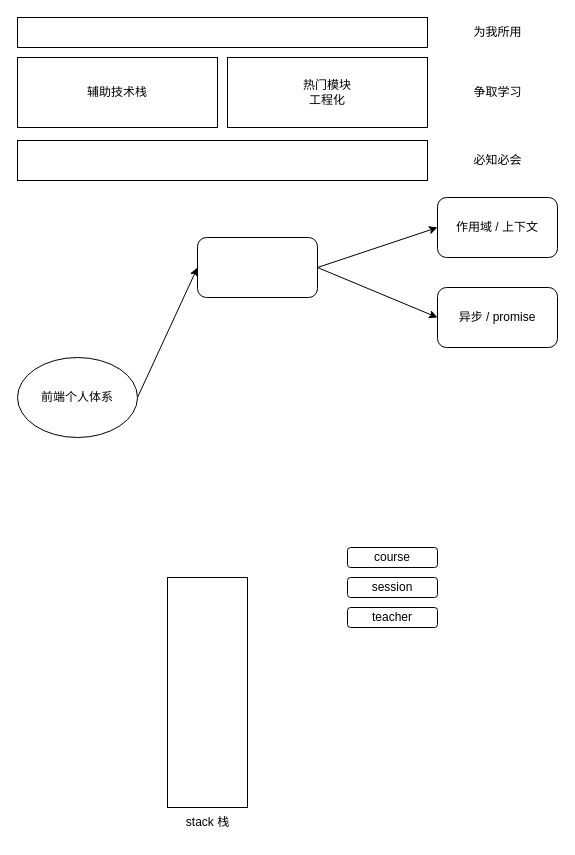
The diagram is 575 pixels wide and 855 high, and some of its shapes have lost their labels. The centre of each missing label's shape, as x and y in pixels:
"JS" goes at [257,267].
"js 布局 端 技术栈" goes at [222,160].
"实战 ｜ 算法 ｜ 模式" goes at [222,32].
